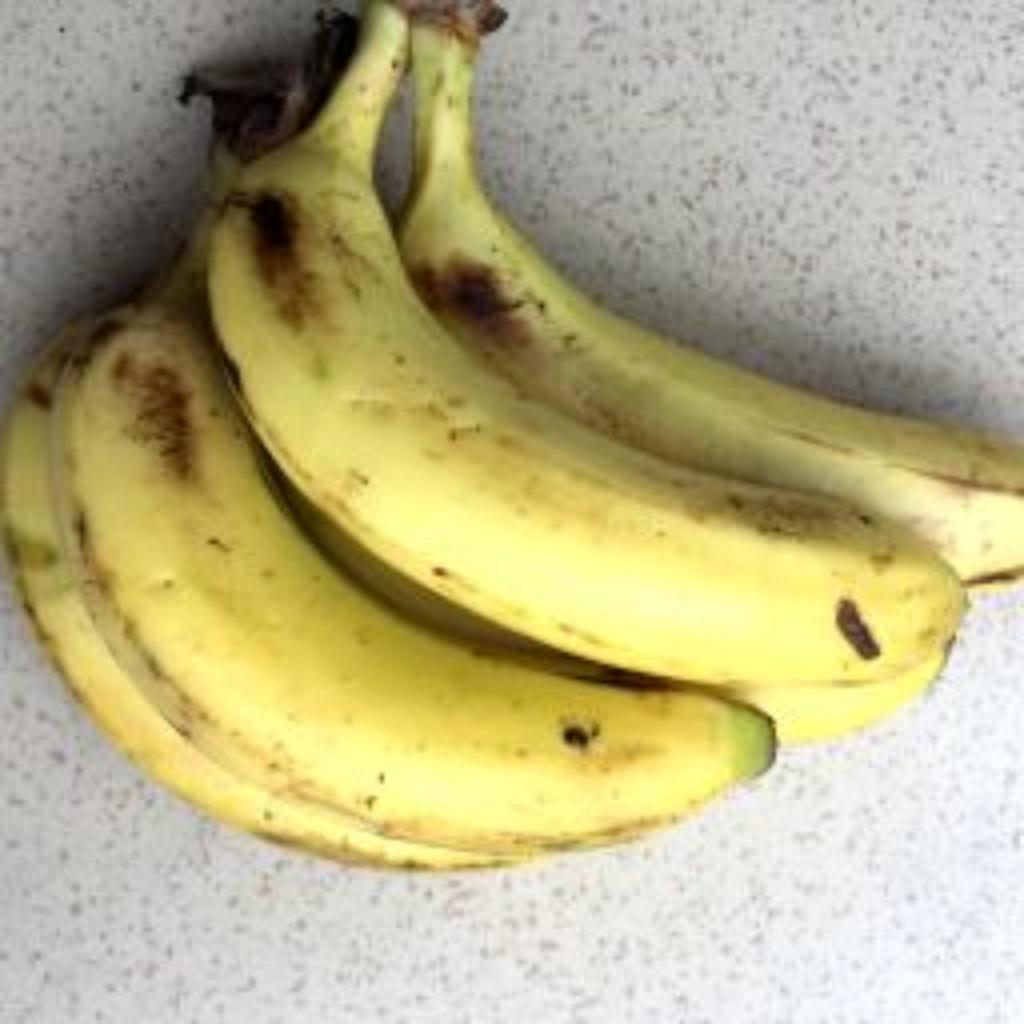banana: (210, 2, 956, 687), (66, 304, 768, 859), (400, 24, 1024, 581), (0, 338, 514, 867)
